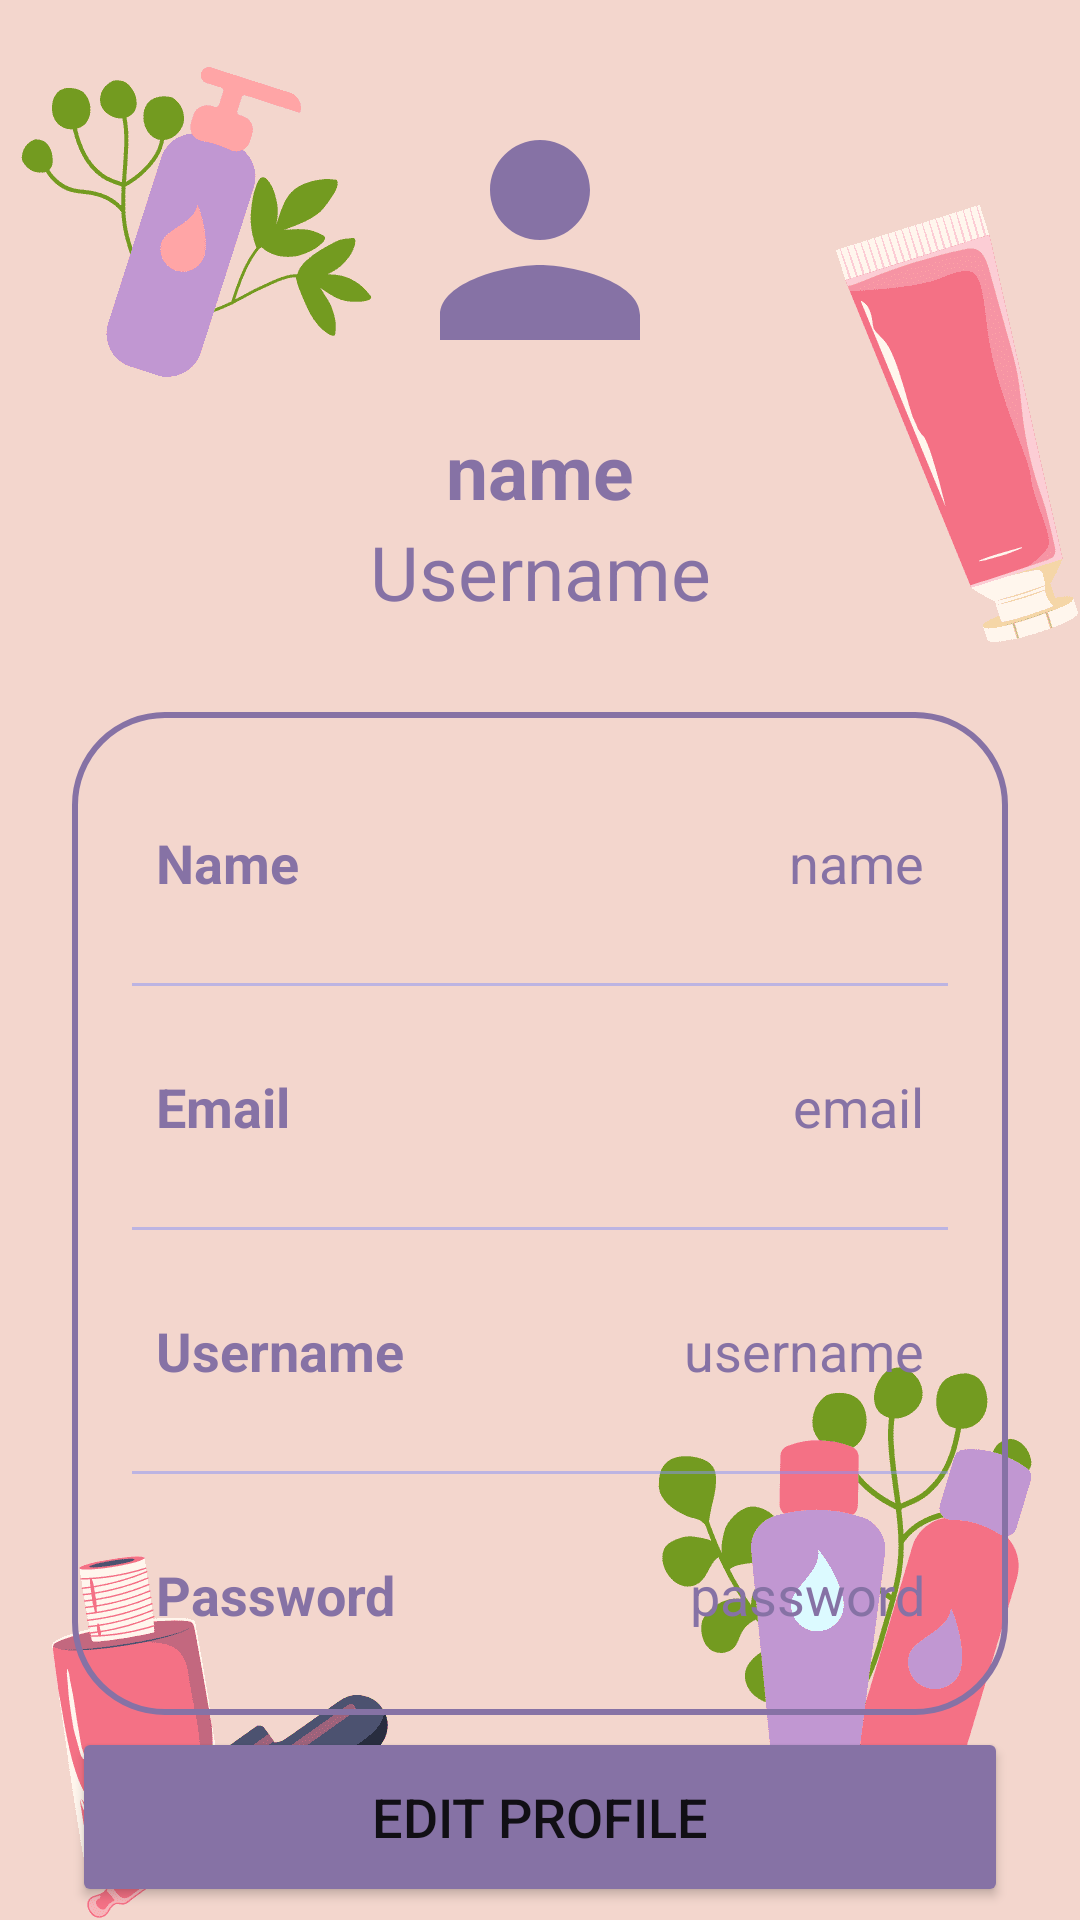

Locate icon controls on the screen. Image size 1080 × 1920, boxes as box=[x1, y1, x2, y2].
person: box=[440, 140, 640, 340]
